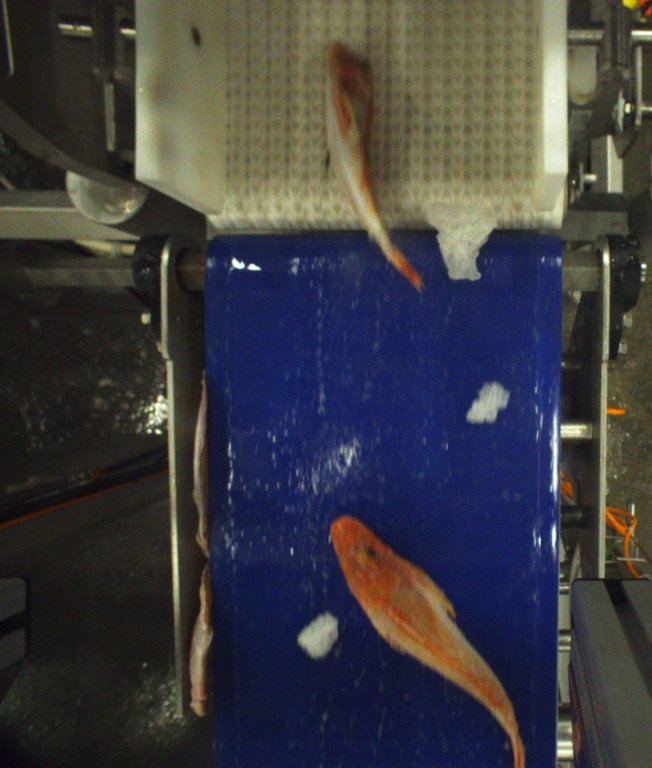GUU: (329, 516, 527, 767)
